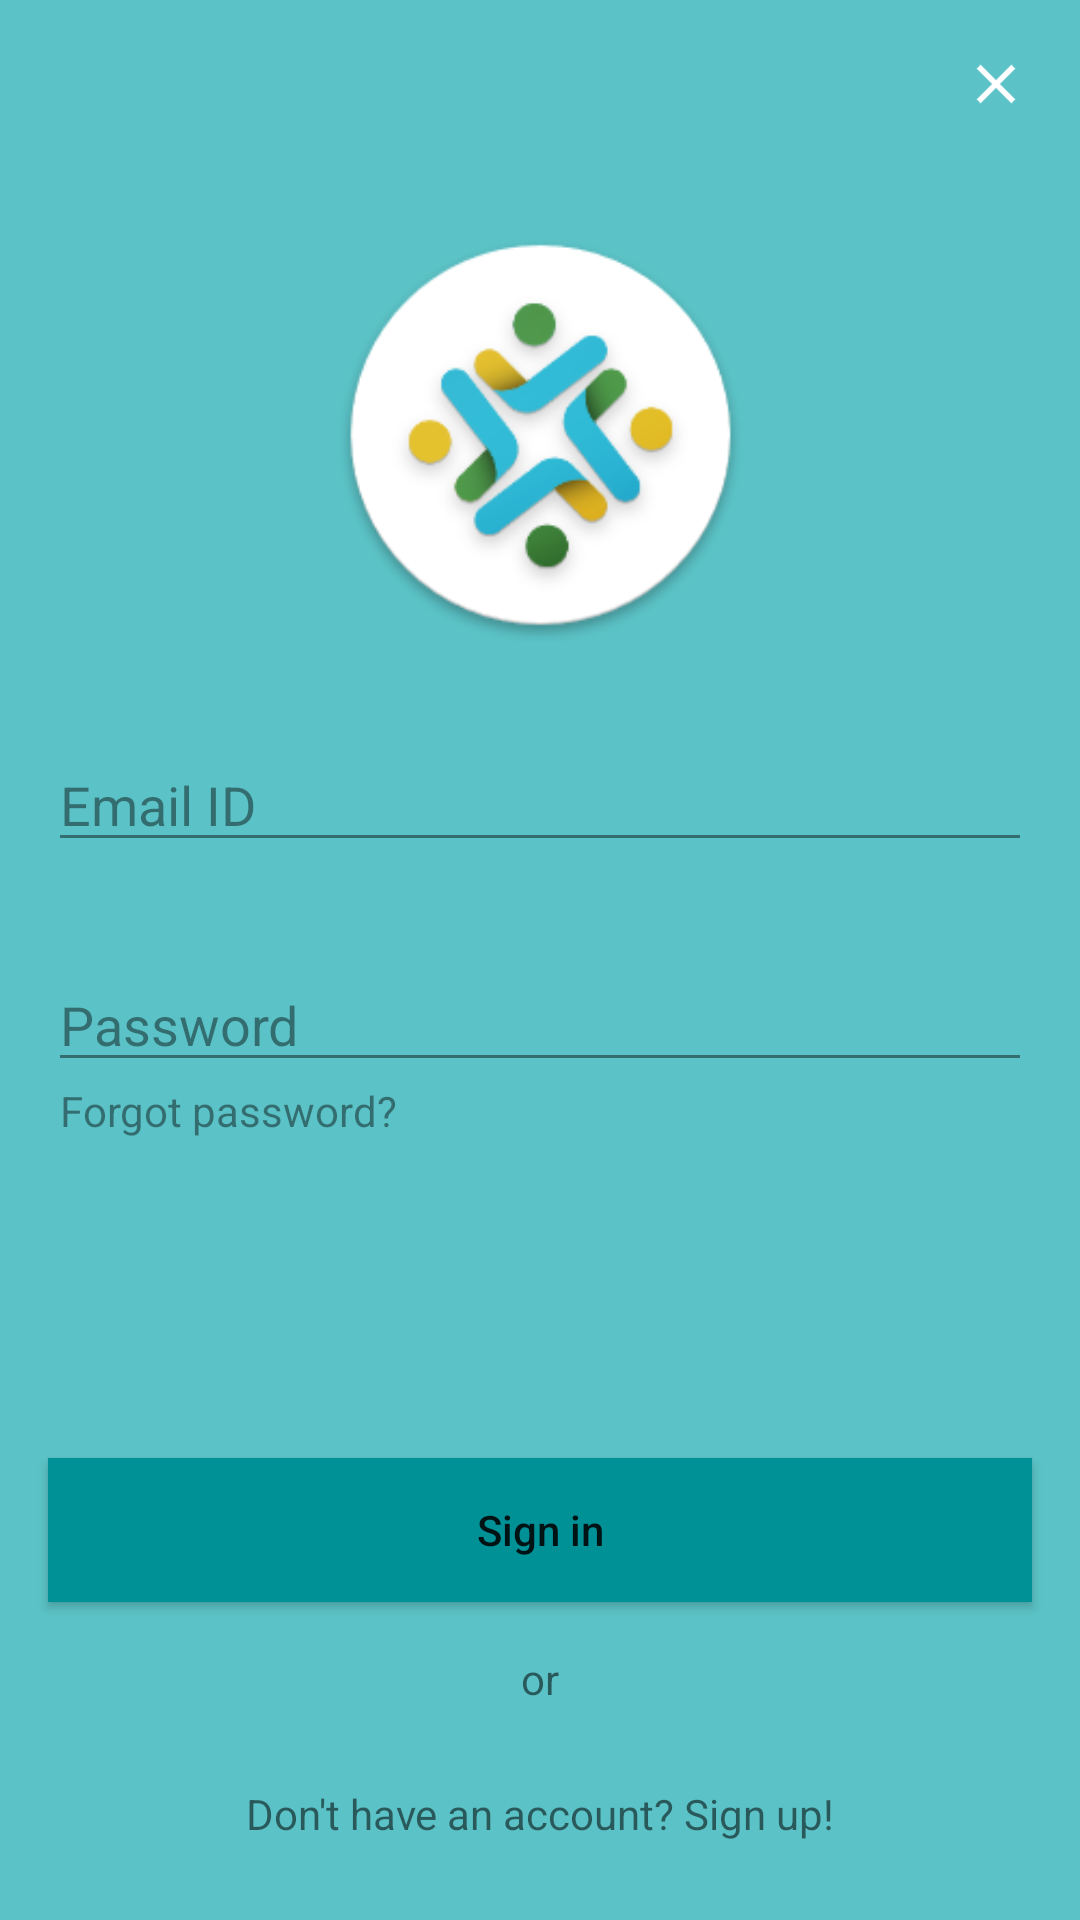

Icon bounding boxes for this 1080x1920 phone screenshot, format {"x1": x1, "y1": y1, "x2": x2, "y2": y2}:
close cross: {"x1": 976, "y1": 64, "x2": 1016, "y2": 104}
